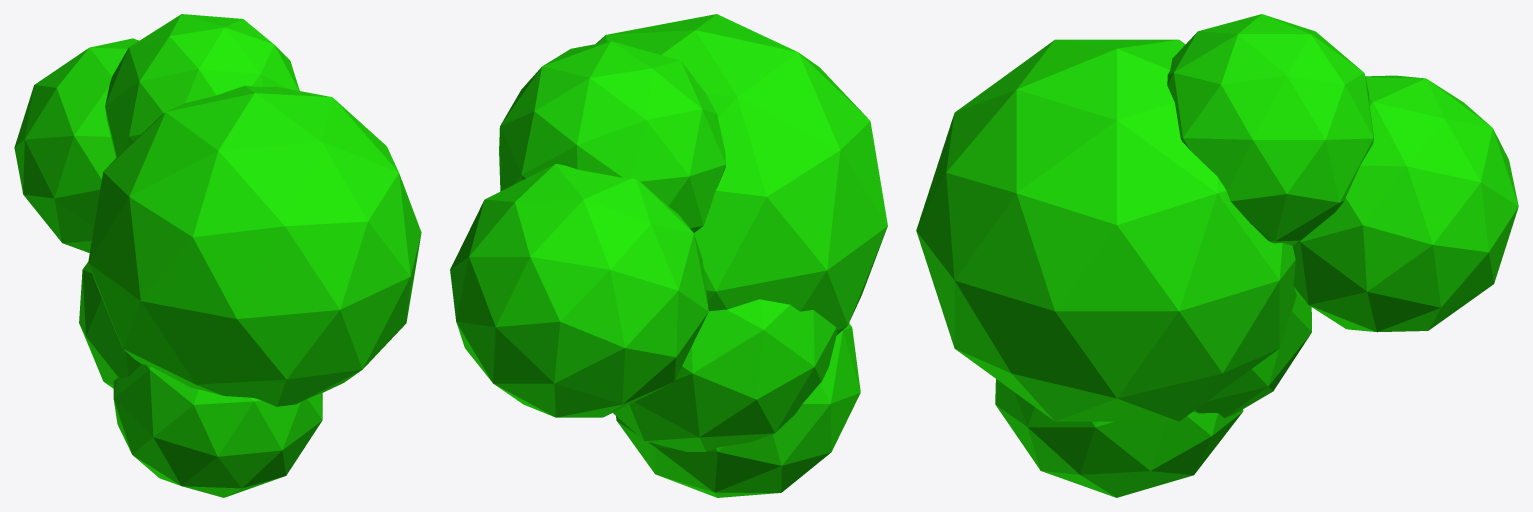
The model's file is bush 6.fbx.
3 views of the same model, side by side, from view 1: azimuth 30°, elevation 25°; view 2: azimuth 150°, elevation 25°; view 3: azimuth 270°, elevation 25° (orthographic). The views are drawn at different scales.
Parts seen in each view (by area): view 1: Icosphere.006; view 2: Icosphere.006; view 3: Icosphere.006.
Part boxes in pixels (left/top/right/bottom): Icosphere.006: left=14, top=14, right=421, bottom=497; Icosphere.006: left=450, top=14, right=887, bottom=497; Icosphere.006: left=916, top=14, right=1518, bottom=497.
Bounding box in the file's own units: 190 × 264 × 300.
